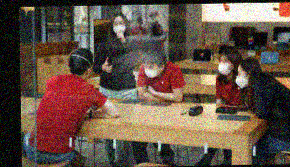with_mask: (234, 68, 248, 89), (143, 62, 160, 77), (216, 57, 231, 74), (111, 18, 126, 33)
